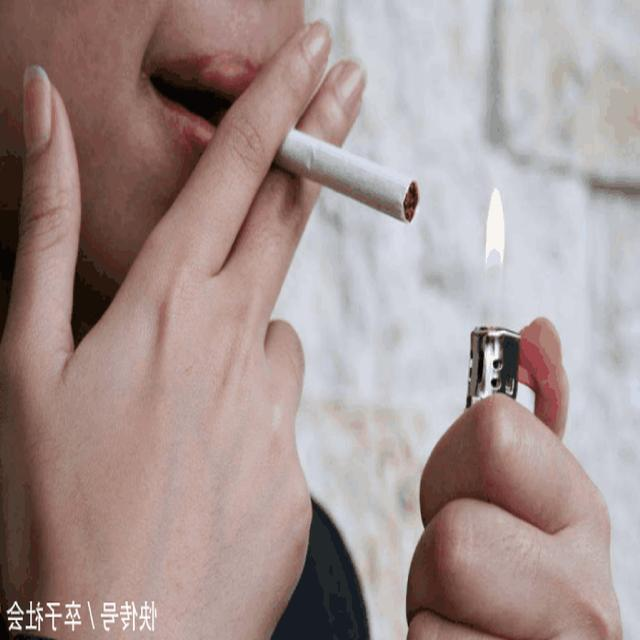smoking: (6, 1, 557, 504)
